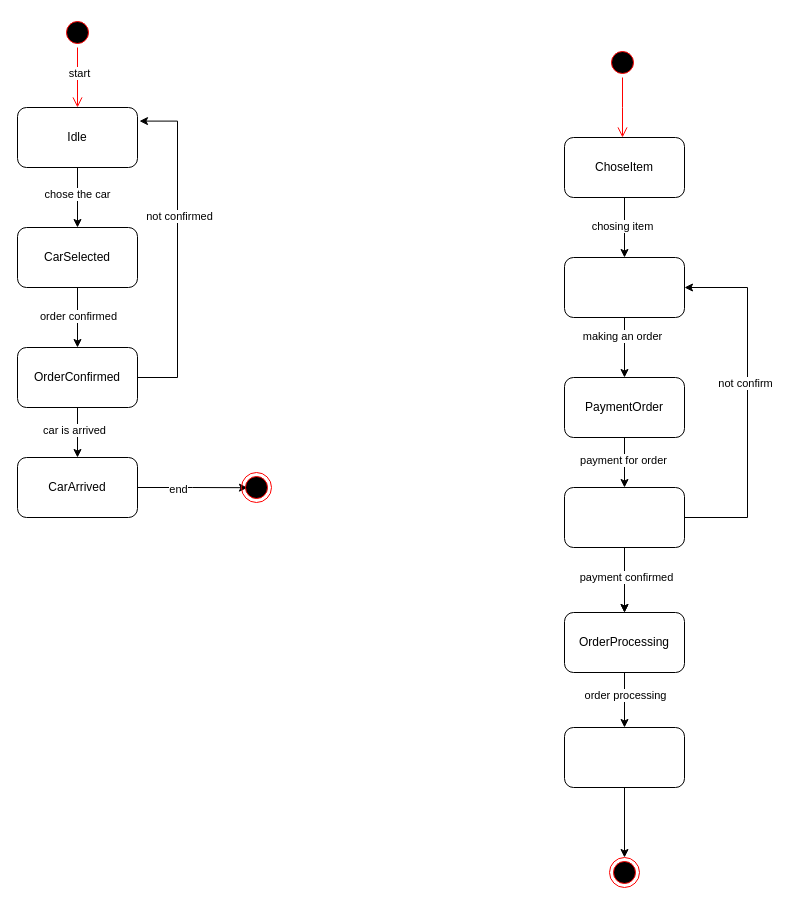
Some shapes in this 789 by 905 pixel diagram are drawn without their labels. The shapes that lost their labels are listed below. From the top down, each one's centre as x and y in pixels, then its label:
[624,287]: MakingOrder
[624,517]: PaymentConfirm
[624,757]: SendOrder
